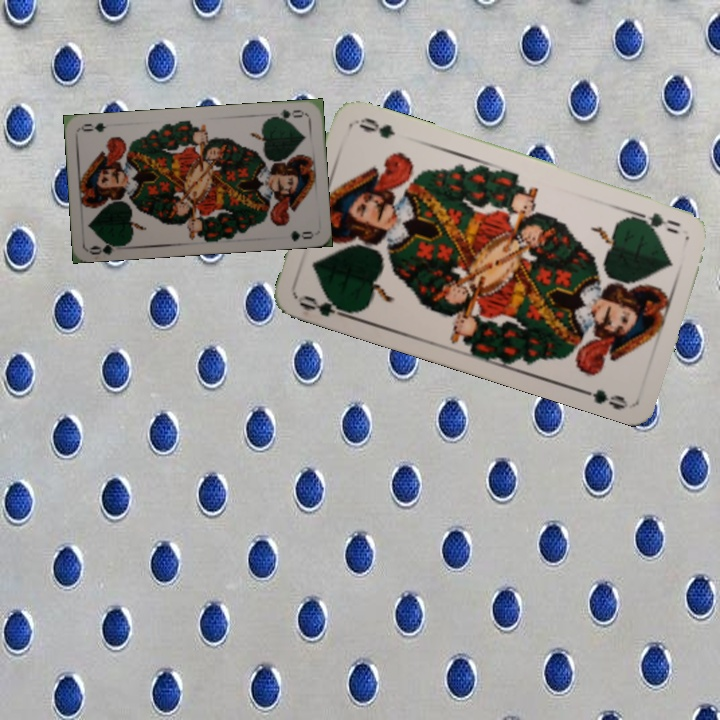GO: (295, 290, 355, 322), (627, 207, 683, 237), (87, 237, 127, 257), (267, 105, 307, 124)
